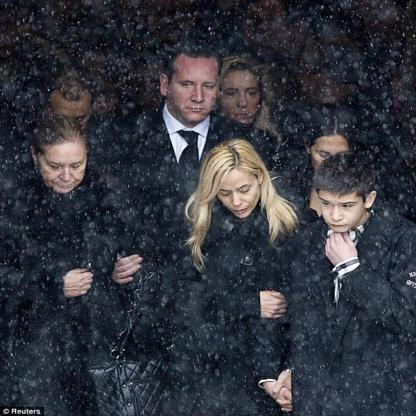face: (170, 58, 220, 120), (222, 75, 262, 130), (42, 146, 88, 193), (322, 190, 365, 234), (221, 171, 261, 218), (54, 97, 90, 143), (313, 136, 349, 177)
